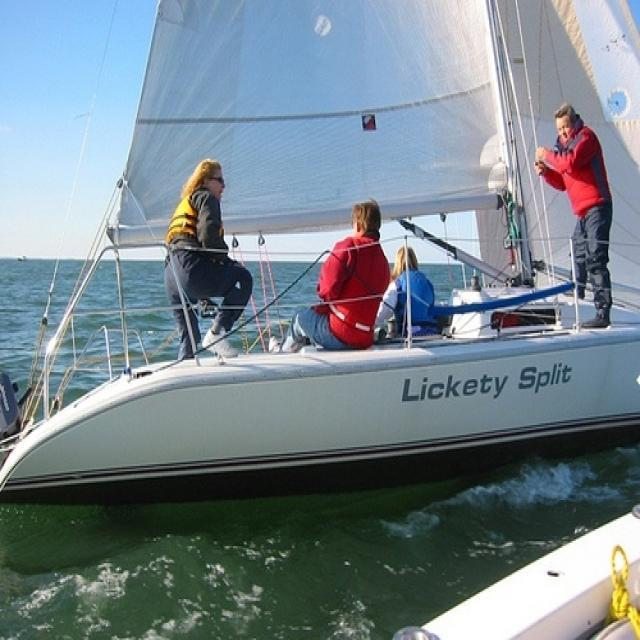Ship: (8, 2, 640, 473)
